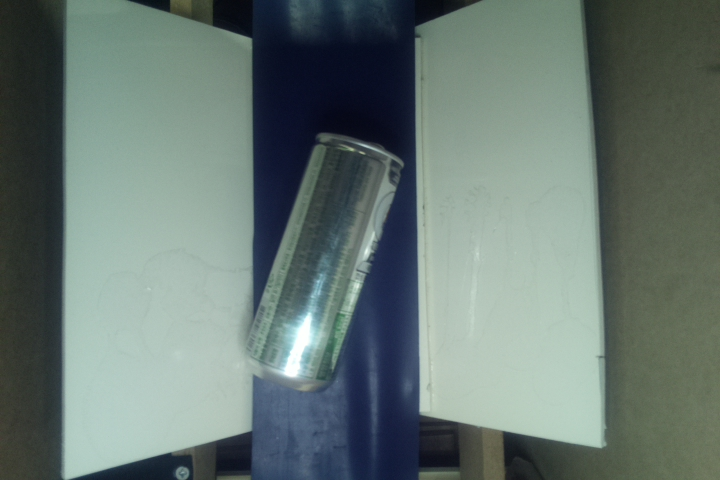can: (241, 134, 405, 397)
